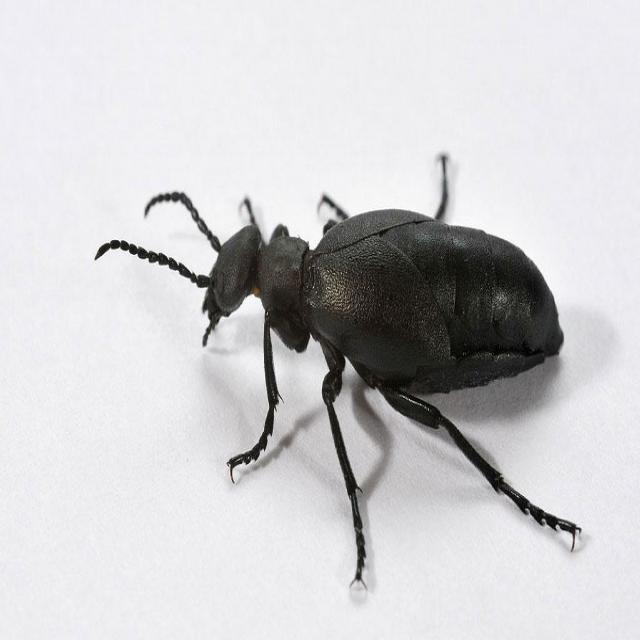BlisterBeetle-Adult-: (84, 140, 598, 554)
